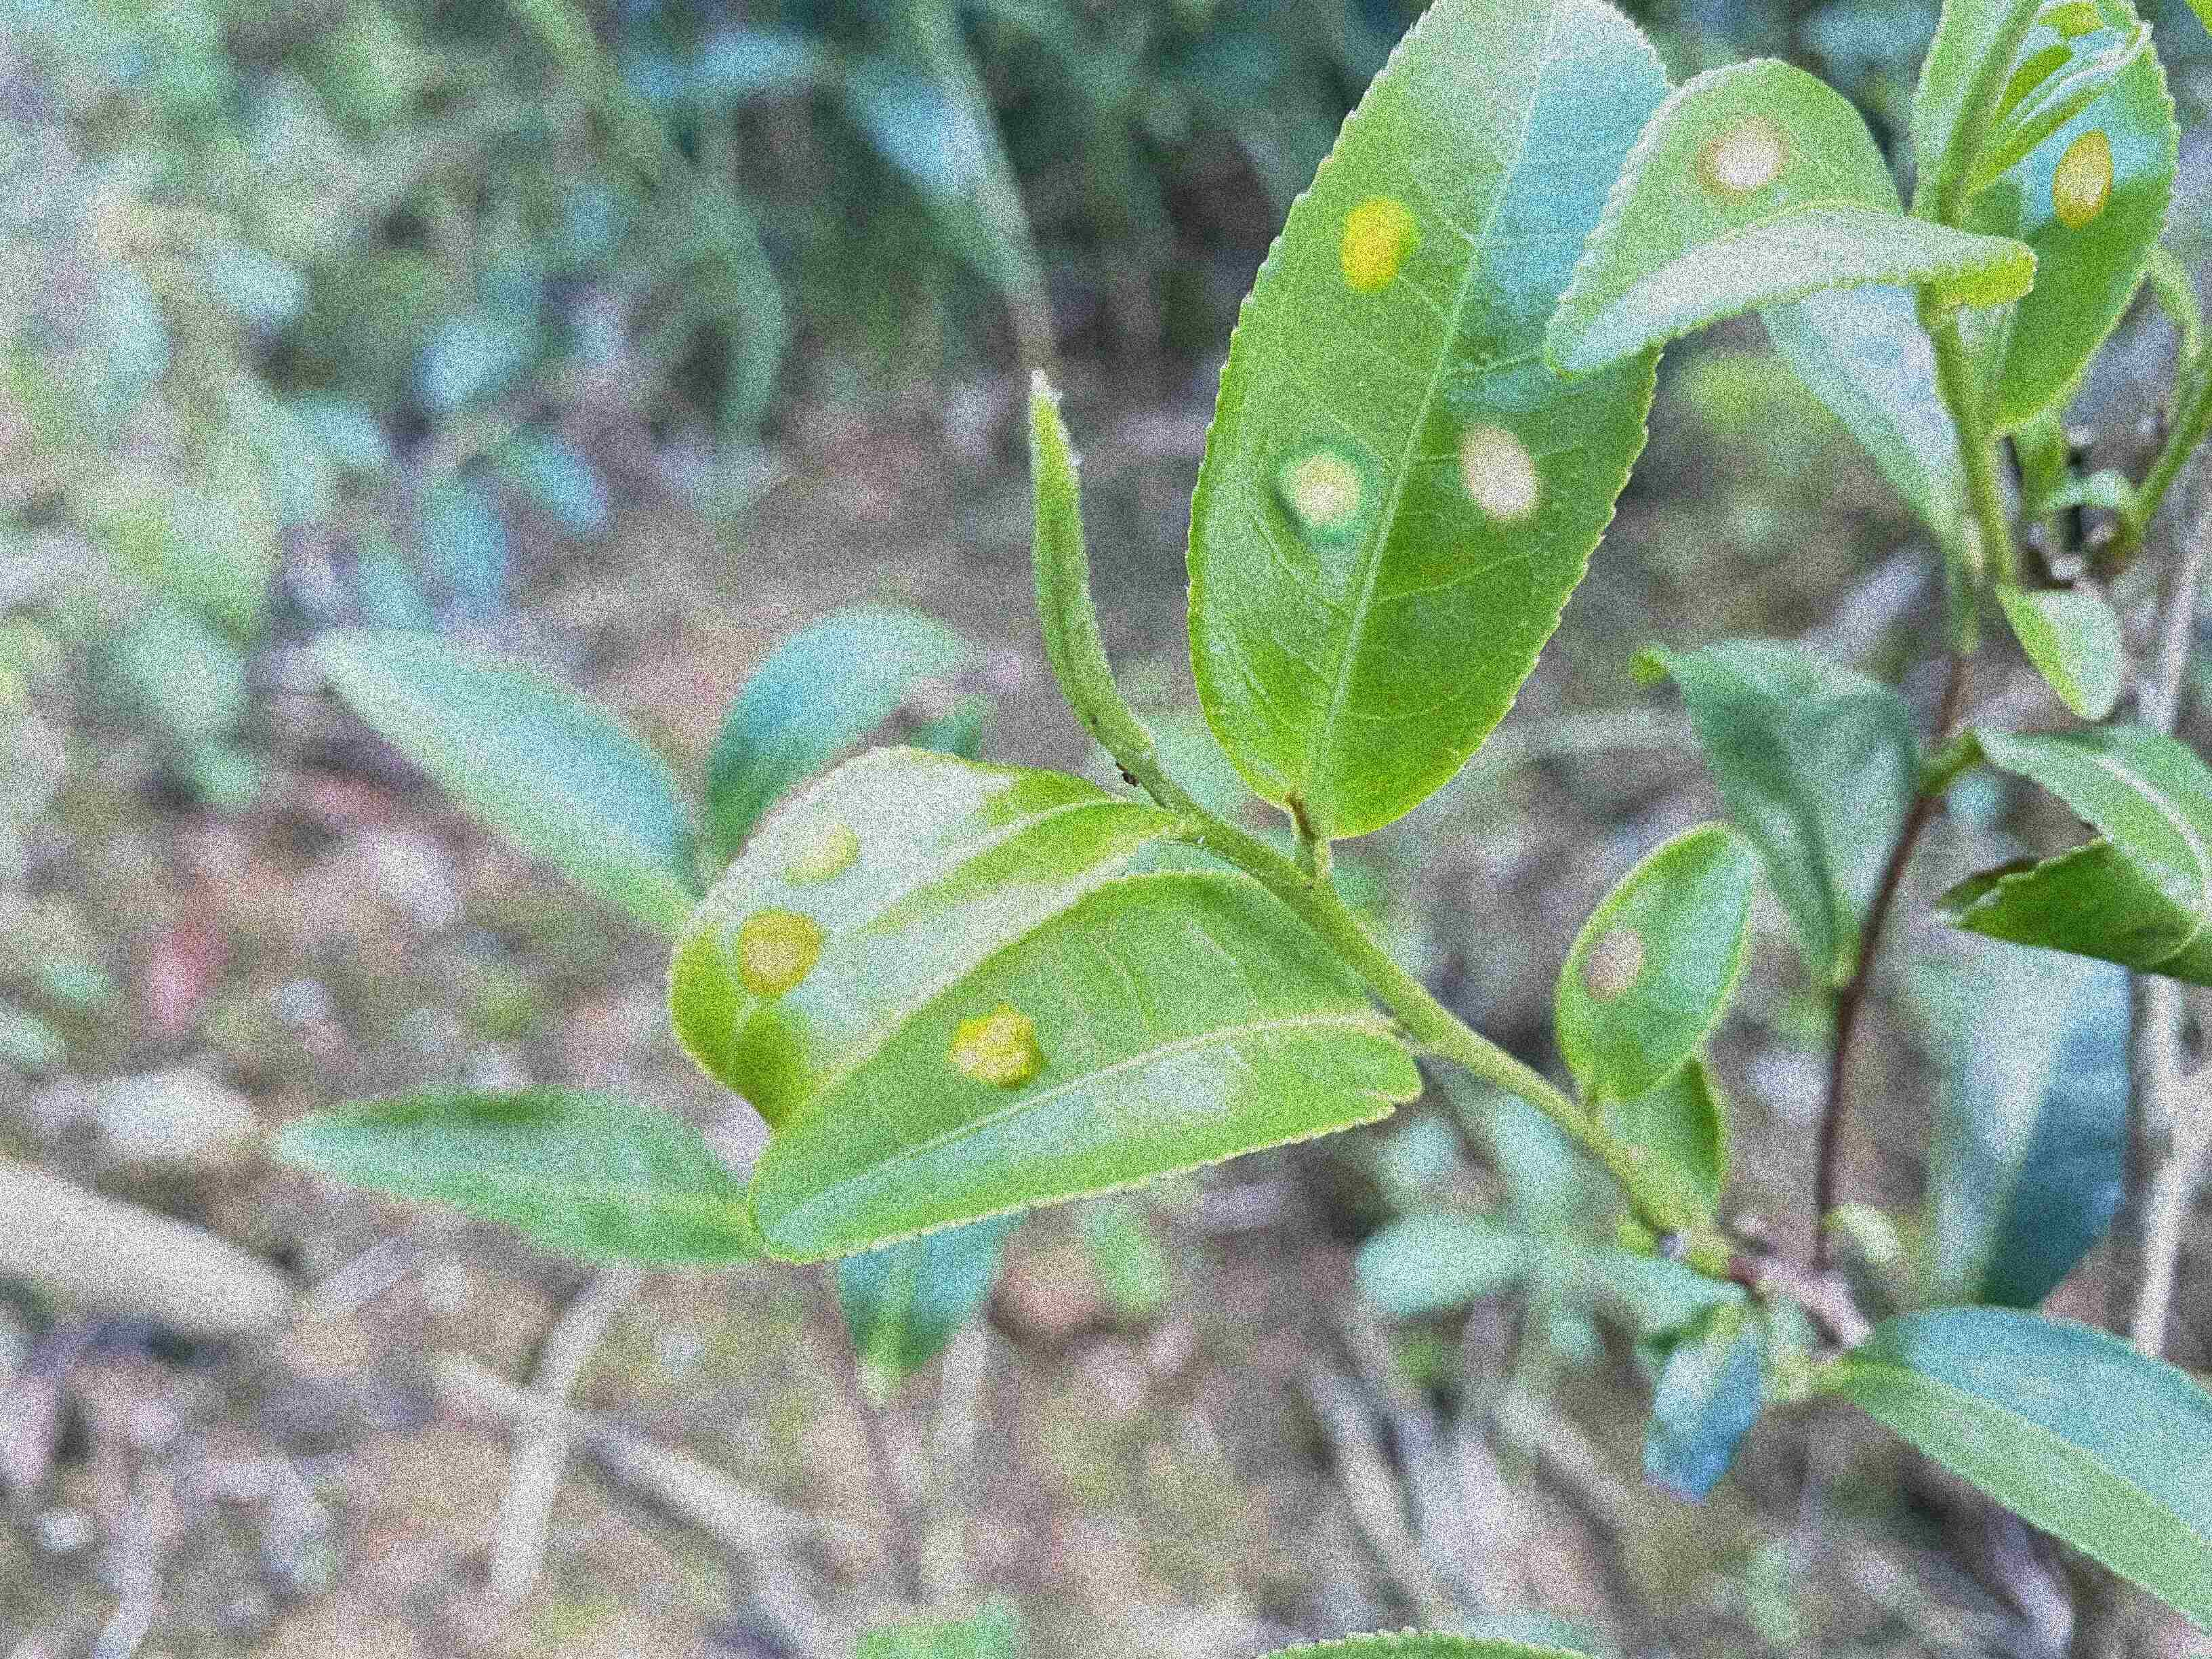chabing_high: (1184, 3, 1674, 838), (664, 742, 1176, 1129)
chabing_low: (745, 868, 1423, 1265), (1541, 56, 2038, 382), (1956, 42, 2179, 429), (1547, 819, 1756, 1101)
